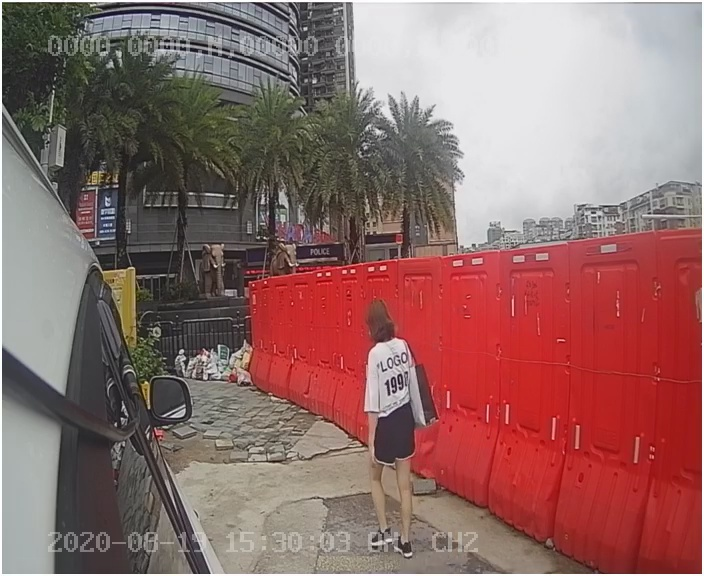person: (342, 293, 454, 563)
